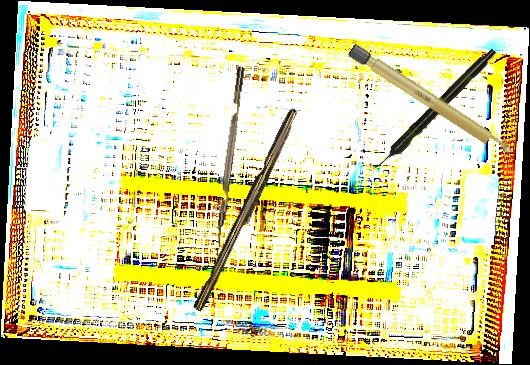Chopper: (212, 66, 254, 254)
Handpiece: (371, 45, 499, 174)
Scalpel Handle: (192, 105, 303, 316), (347, 43, 516, 160)
